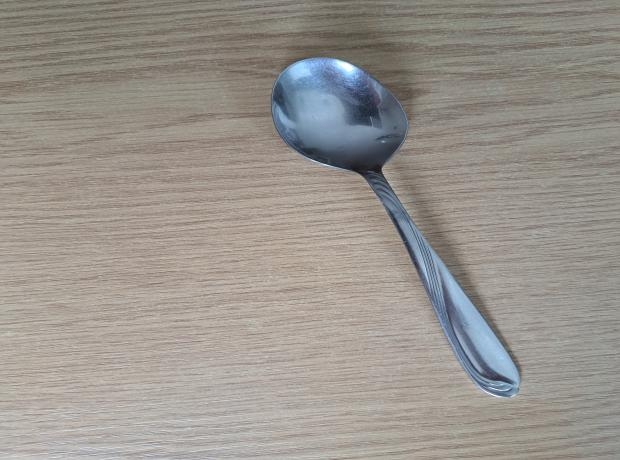metal: (271, 58, 525, 399)
